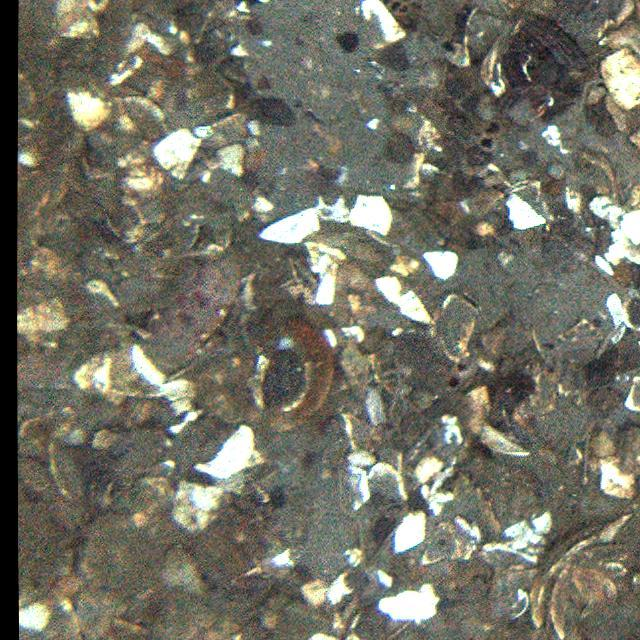crab: (146, 249, 244, 370)
